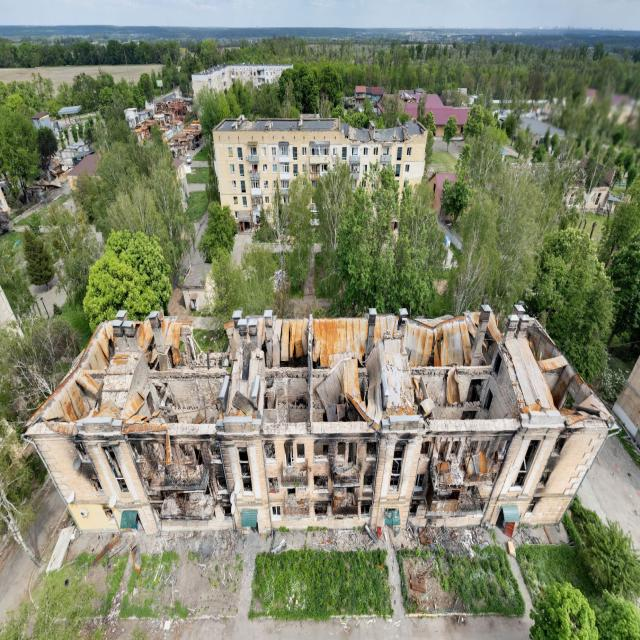broken_window: (236, 445, 254, 496)
building: (211, 112, 428, 235)
damaged_roof: (21, 304, 619, 541)
